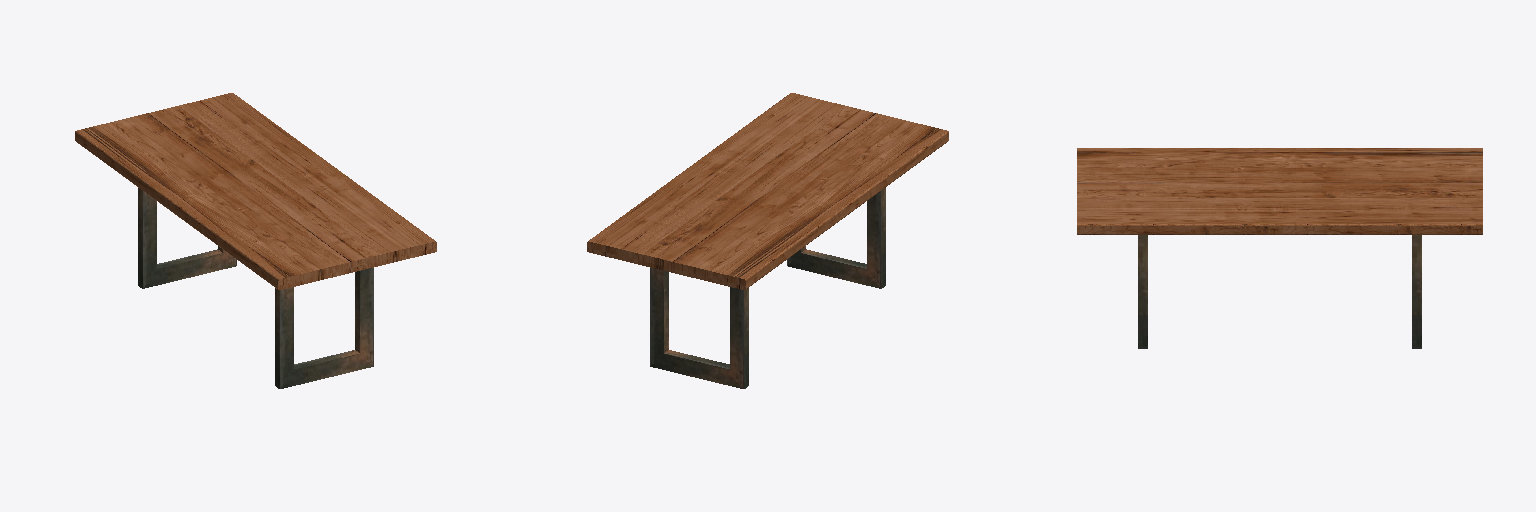
3 views of the same model, side by side, from view 1: azimuth 30°, elevation 25°; view 2: azimuth 150°, elevation 25°; view 3: azimuth 270°, elevation 25° (orthographic).
Visible parts, largest first — view 1: Mesh3 Component_1_1 Component_2_1 Component_3_1 Model, Mesh1 Group_8_1 Component_2_1 Component_3_1 Model, Mesh2 Group_8_2 Component_2_1 Component_3_1 Model; view 2: Mesh3 Component_1_1 Component_2_1 Component_3_1 Model, Mesh2 Group_8_2 Component_2_1 Component_3_1 Model, Mesh1 Group_8_1 Component_2_1 Component_3_1 Model; view 3: Mesh3 Component_1_1 Component_2_1 Component_3_1 Model, Mesh1 Group_8_1 Component_2_1 Component_3_1 Model, Mesh2 Group_8_2 Component_2_1 Component_3_1 Model.
Part boxes in pixels (left/top/right/bottom): Mesh3 Component_1_1 Component_2_1 Component_3_1 Model: left=75, top=93, right=436, bottom=289; Mesh1 Group_8_1 Component_2_1 Component_3_1 Model: left=275, top=268, right=373, bottom=388; Mesh2 Group_8_2 Component_2_1 Component_3_1 Model: left=138, top=188, right=236, bottom=288; Mesh3 Component_1_1 Component_2_1 Component_3_1 Model: left=587, top=93, right=948, bottom=289; Mesh2 Group_8_2 Component_2_1 Component_3_1 Model: left=650, top=268, right=748, bottom=388; Mesh1 Group_8_1 Component_2_1 Component_3_1 Model: left=787, top=188, right=885, bottom=288; Mesh3 Component_1_1 Component_2_1 Component_3_1 Model: left=1077, top=148, right=1482, bottom=234; Mesh1 Group_8_1 Component_2_1 Component_3_1 Model: left=1138, top=235, right=1147, bottom=348; Mesh2 Group_8_2 Component_2_1 Component_3_1 Model: left=1412, top=235, right=1421, bottom=348.
Bounding box in the file's own units: 13.83 × 11.69 × 30.74.
Materials: 3 (2 with a texture image).